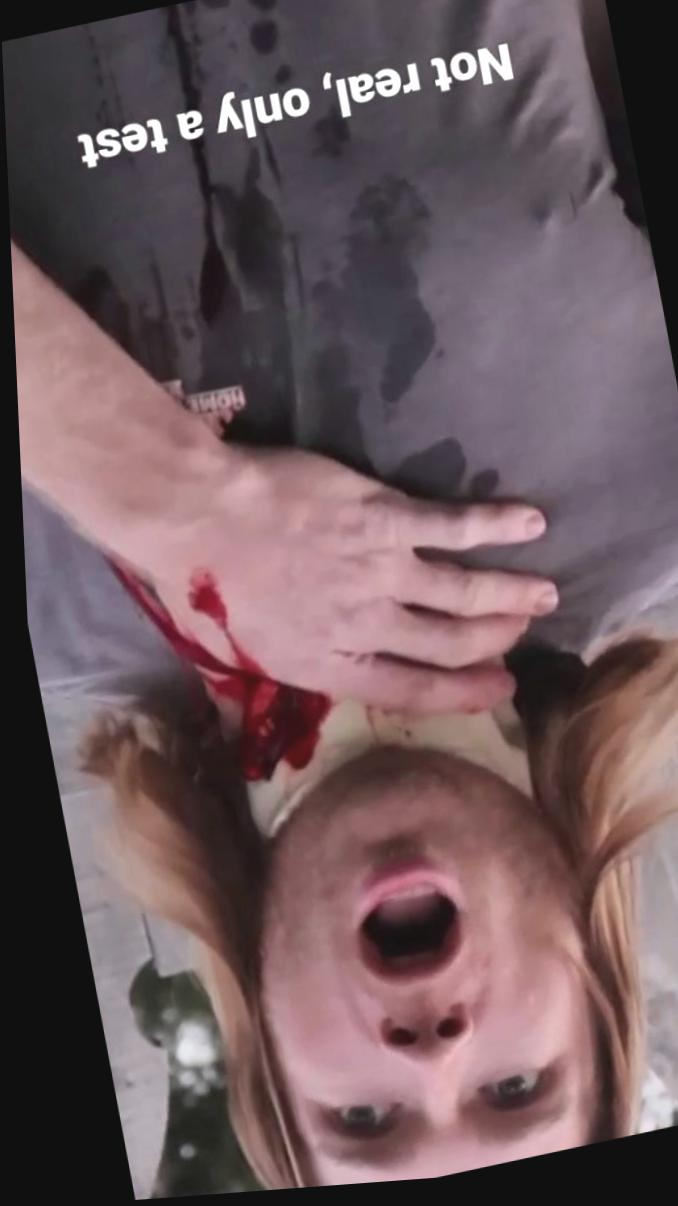Fire: (101, 560, 325, 785), (319, 704, 420, 767)
